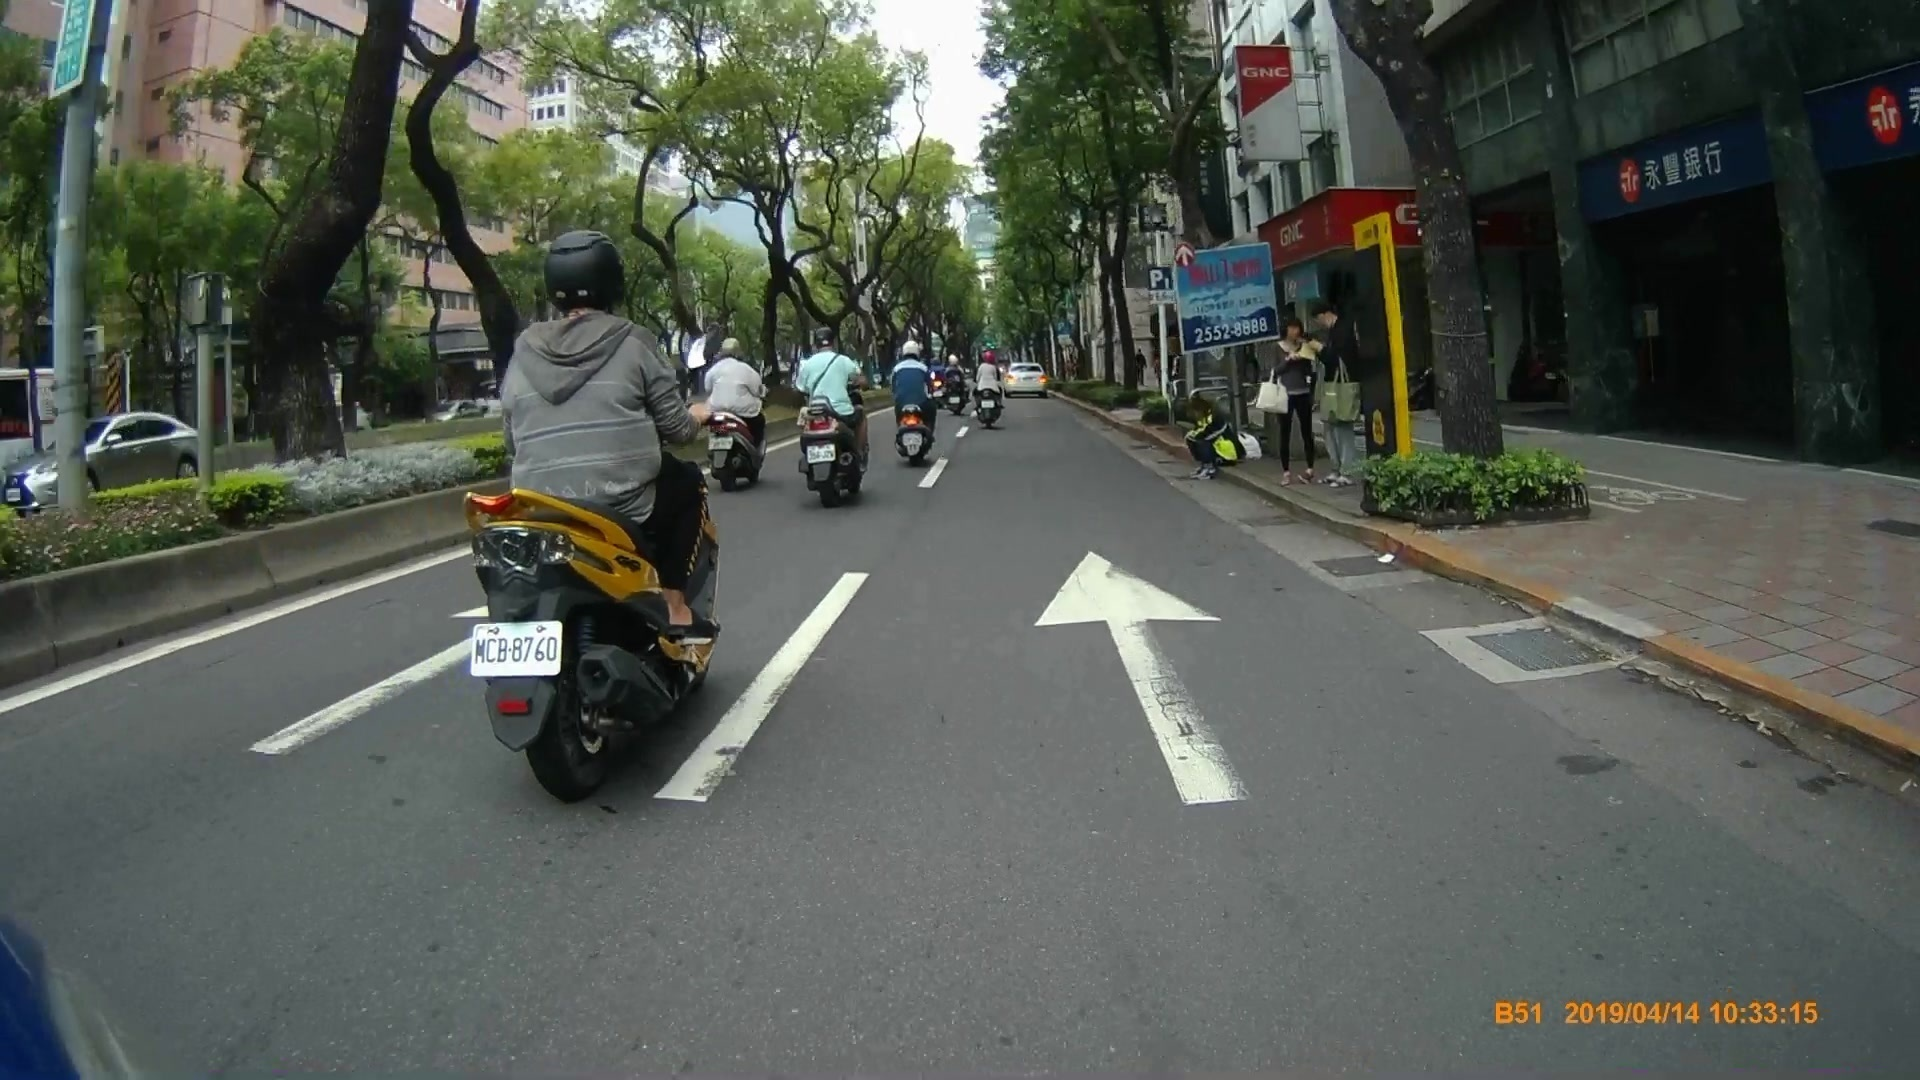License_plate: (471, 625, 564, 677), (806, 443, 835, 464), (710, 434, 735, 450), (900, 434, 923, 448)
